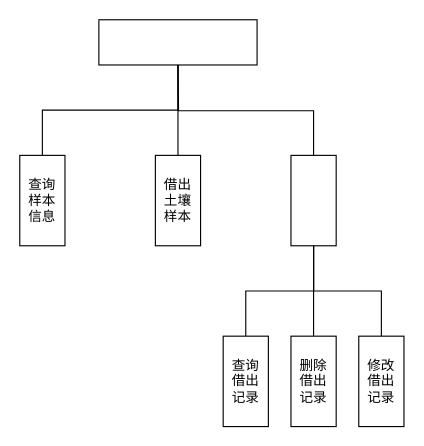
Some shapes in this 424 by 446 pixel diagram are drawn without their labels. Each missing label, with the box of its shape:
借出 记录 管理: (290, 154, 336, 246)
样本信息借出管理模块: (98, 19, 257, 65)
